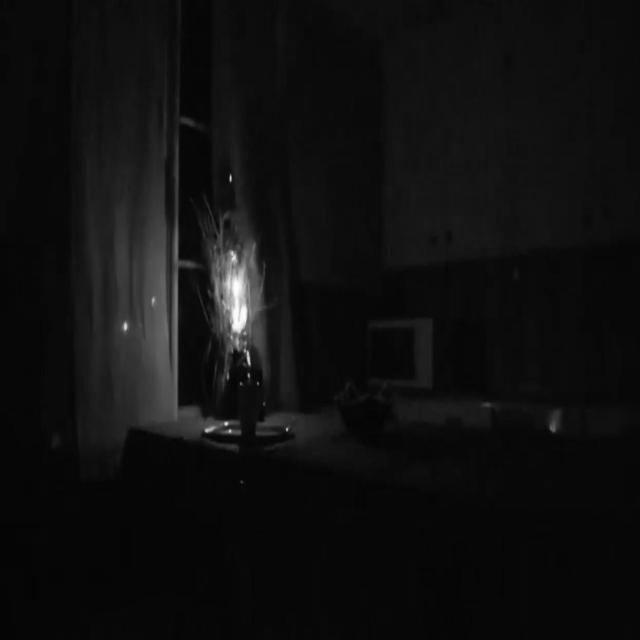smoke: (224, 244, 256, 346)
